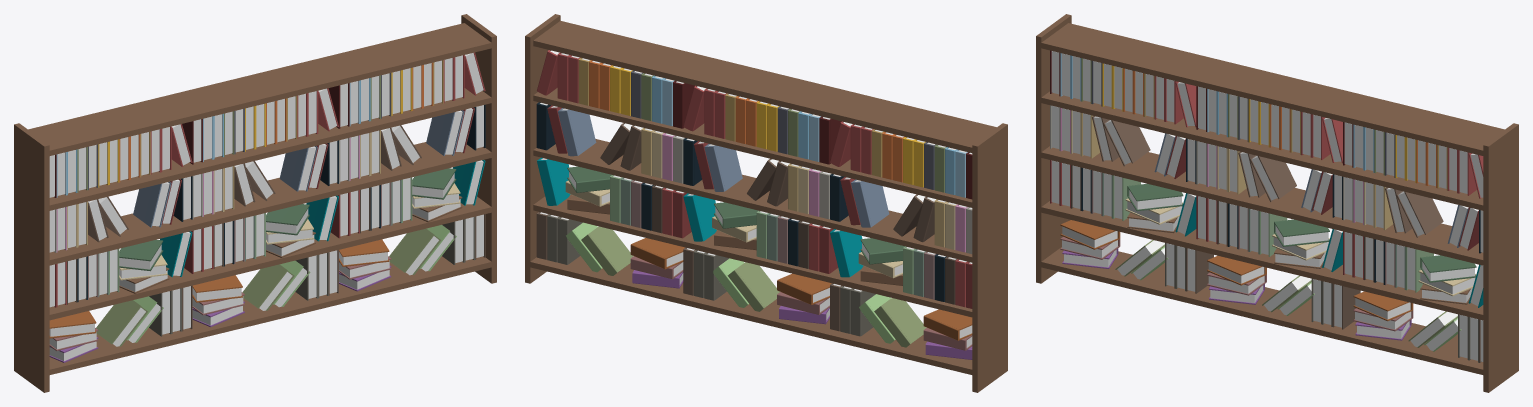
Rendered from biblioteca.gltf.
The picture shows the model from 3 angles, left to right: view 1: azimuth 30°, elevation 25°; view 2: azimuth 150°, elevation 25°; view 3: azimuth 330°, elevation 25°; orthographic projection.
Parts seen in each view (by area): view 1: Part (×13), Union (×18); view 2: Union (×120), Part (×7); view 3: Part (×27), Union (×15).
Boxes of the visible parts, bbox=[...] form: Part (×13): bbox=[14, 14, 496, 392]; Union (×18): bbox=[49, 110, 485, 346]; Union (×120): bbox=[536, 50, 972, 359]; Part (×7): bbox=[525, 14, 1007, 392]; Part (×27): bbox=[1036, 14, 1518, 392]; Union (×15): bbox=[1060, 81, 1476, 329].
Bounding box in the file's own units: 17.3 × 9 × 2.19.
